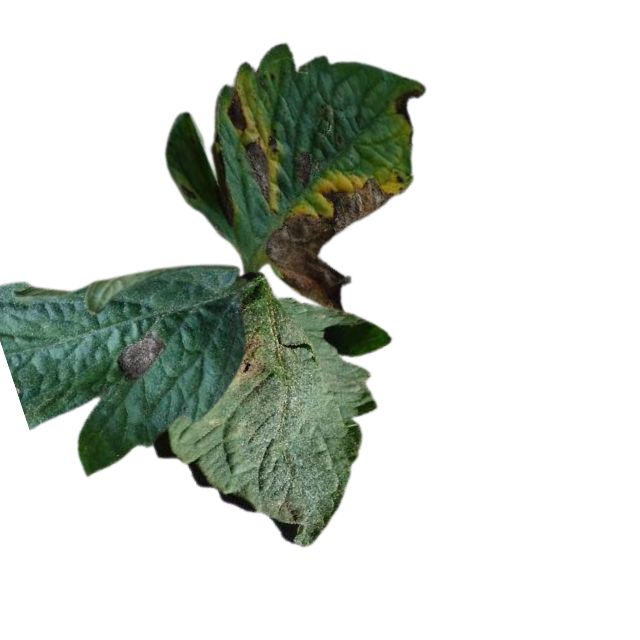Early_blight: (272, 175, 392, 312), (114, 332, 162, 382), (242, 135, 272, 203), (235, 330, 265, 378), (391, 85, 424, 126), (225, 88, 249, 135), (287, 149, 315, 186)
